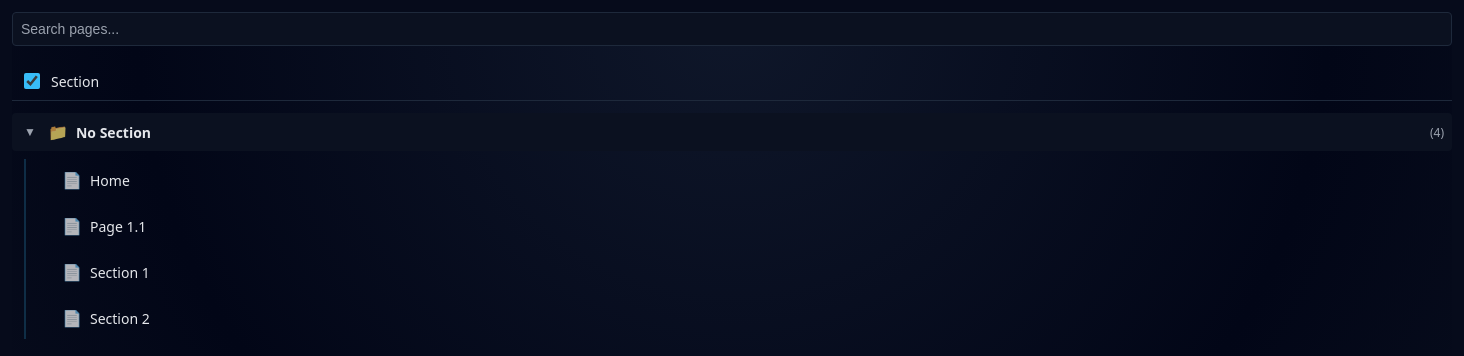
NavigationTree › handles search with empty string after non-empty
The width and height of the screenshot is (1464, 356).
Type "Section" into the search field with placeholder "Search pages..." at [732, 29], box [12,12,1452,46]
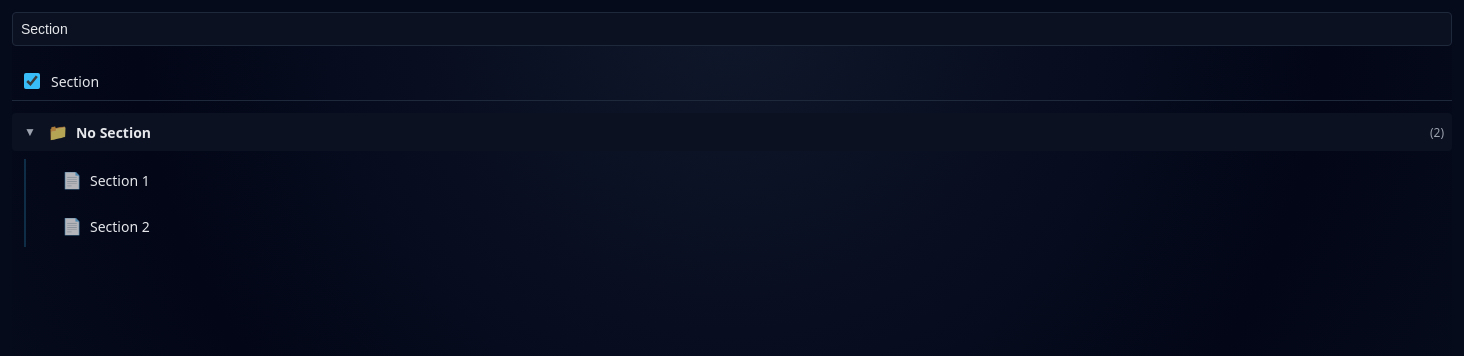
Clear the search field with placeholder "Search pages..." at [732, 29], box [12,12,1452,46]
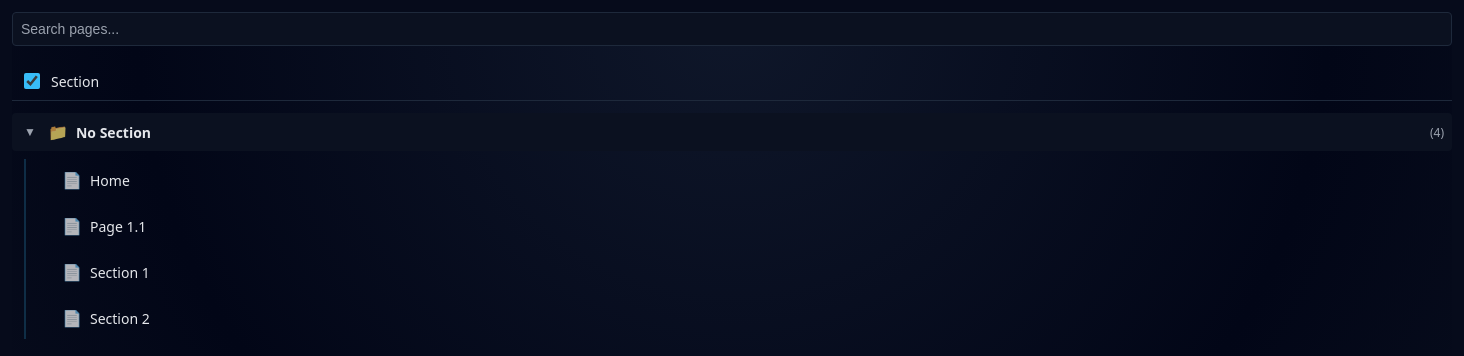
Check: the text "Home" is shown, box [90,170,130,190]
